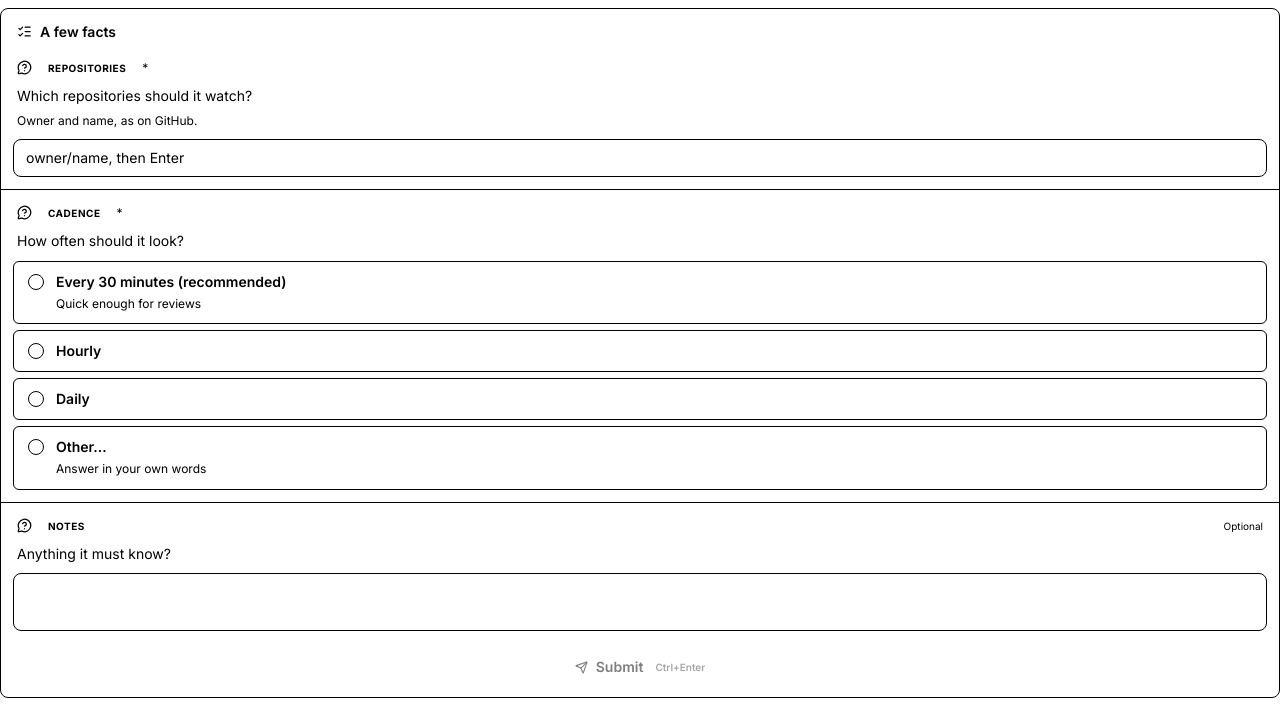
Scenario: ask_form: answering › keeps Submit disabled until every required question has an answer
expect the button "Submit Ctrl+Enter" is disabled: met, box [13,649,1267,685]
In the field labelled "Which repositories should it watch?": (640, 158) [22,146,1258,170], type "org/repo-a"
Then press Enter
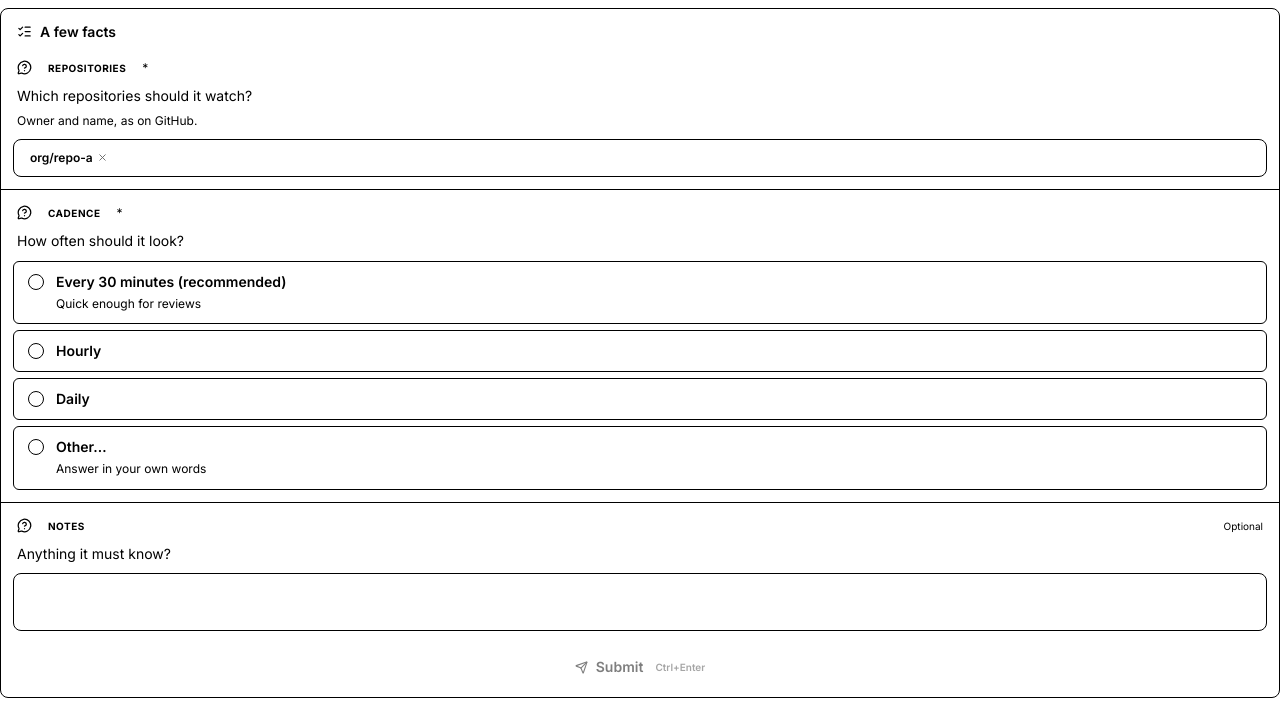
expect the button "Submit Ctrl+Enter" is disabled: met, box [13,649,1267,685]
Type keys "{Control>}{Enter}{/Control}"
Click the button "Every 30 minutes (recommended) Quick enough for reviews": (171, 281) [13,260,1267,324]
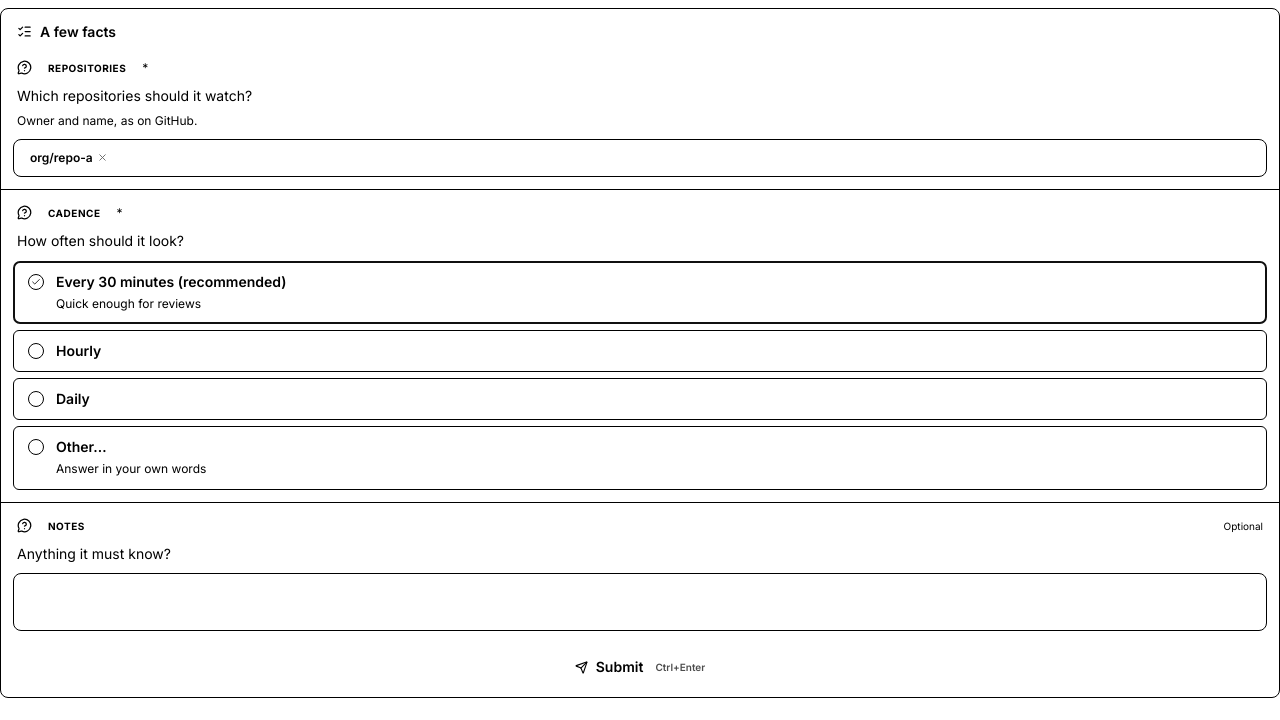
expect the button "Submit Ctrl+Enter" is enabled: met, box [13,649,1267,685]
